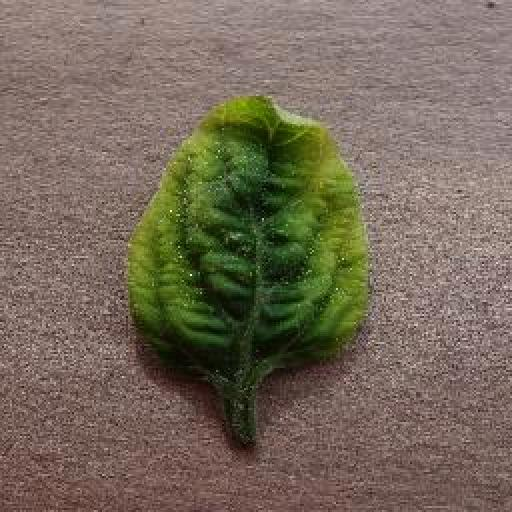disease_tomato: (126, 93, 370, 387)
